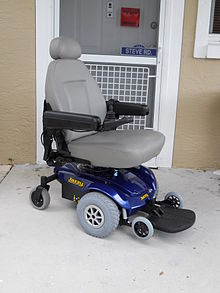wheelchair: (25, 57, 199, 238)
